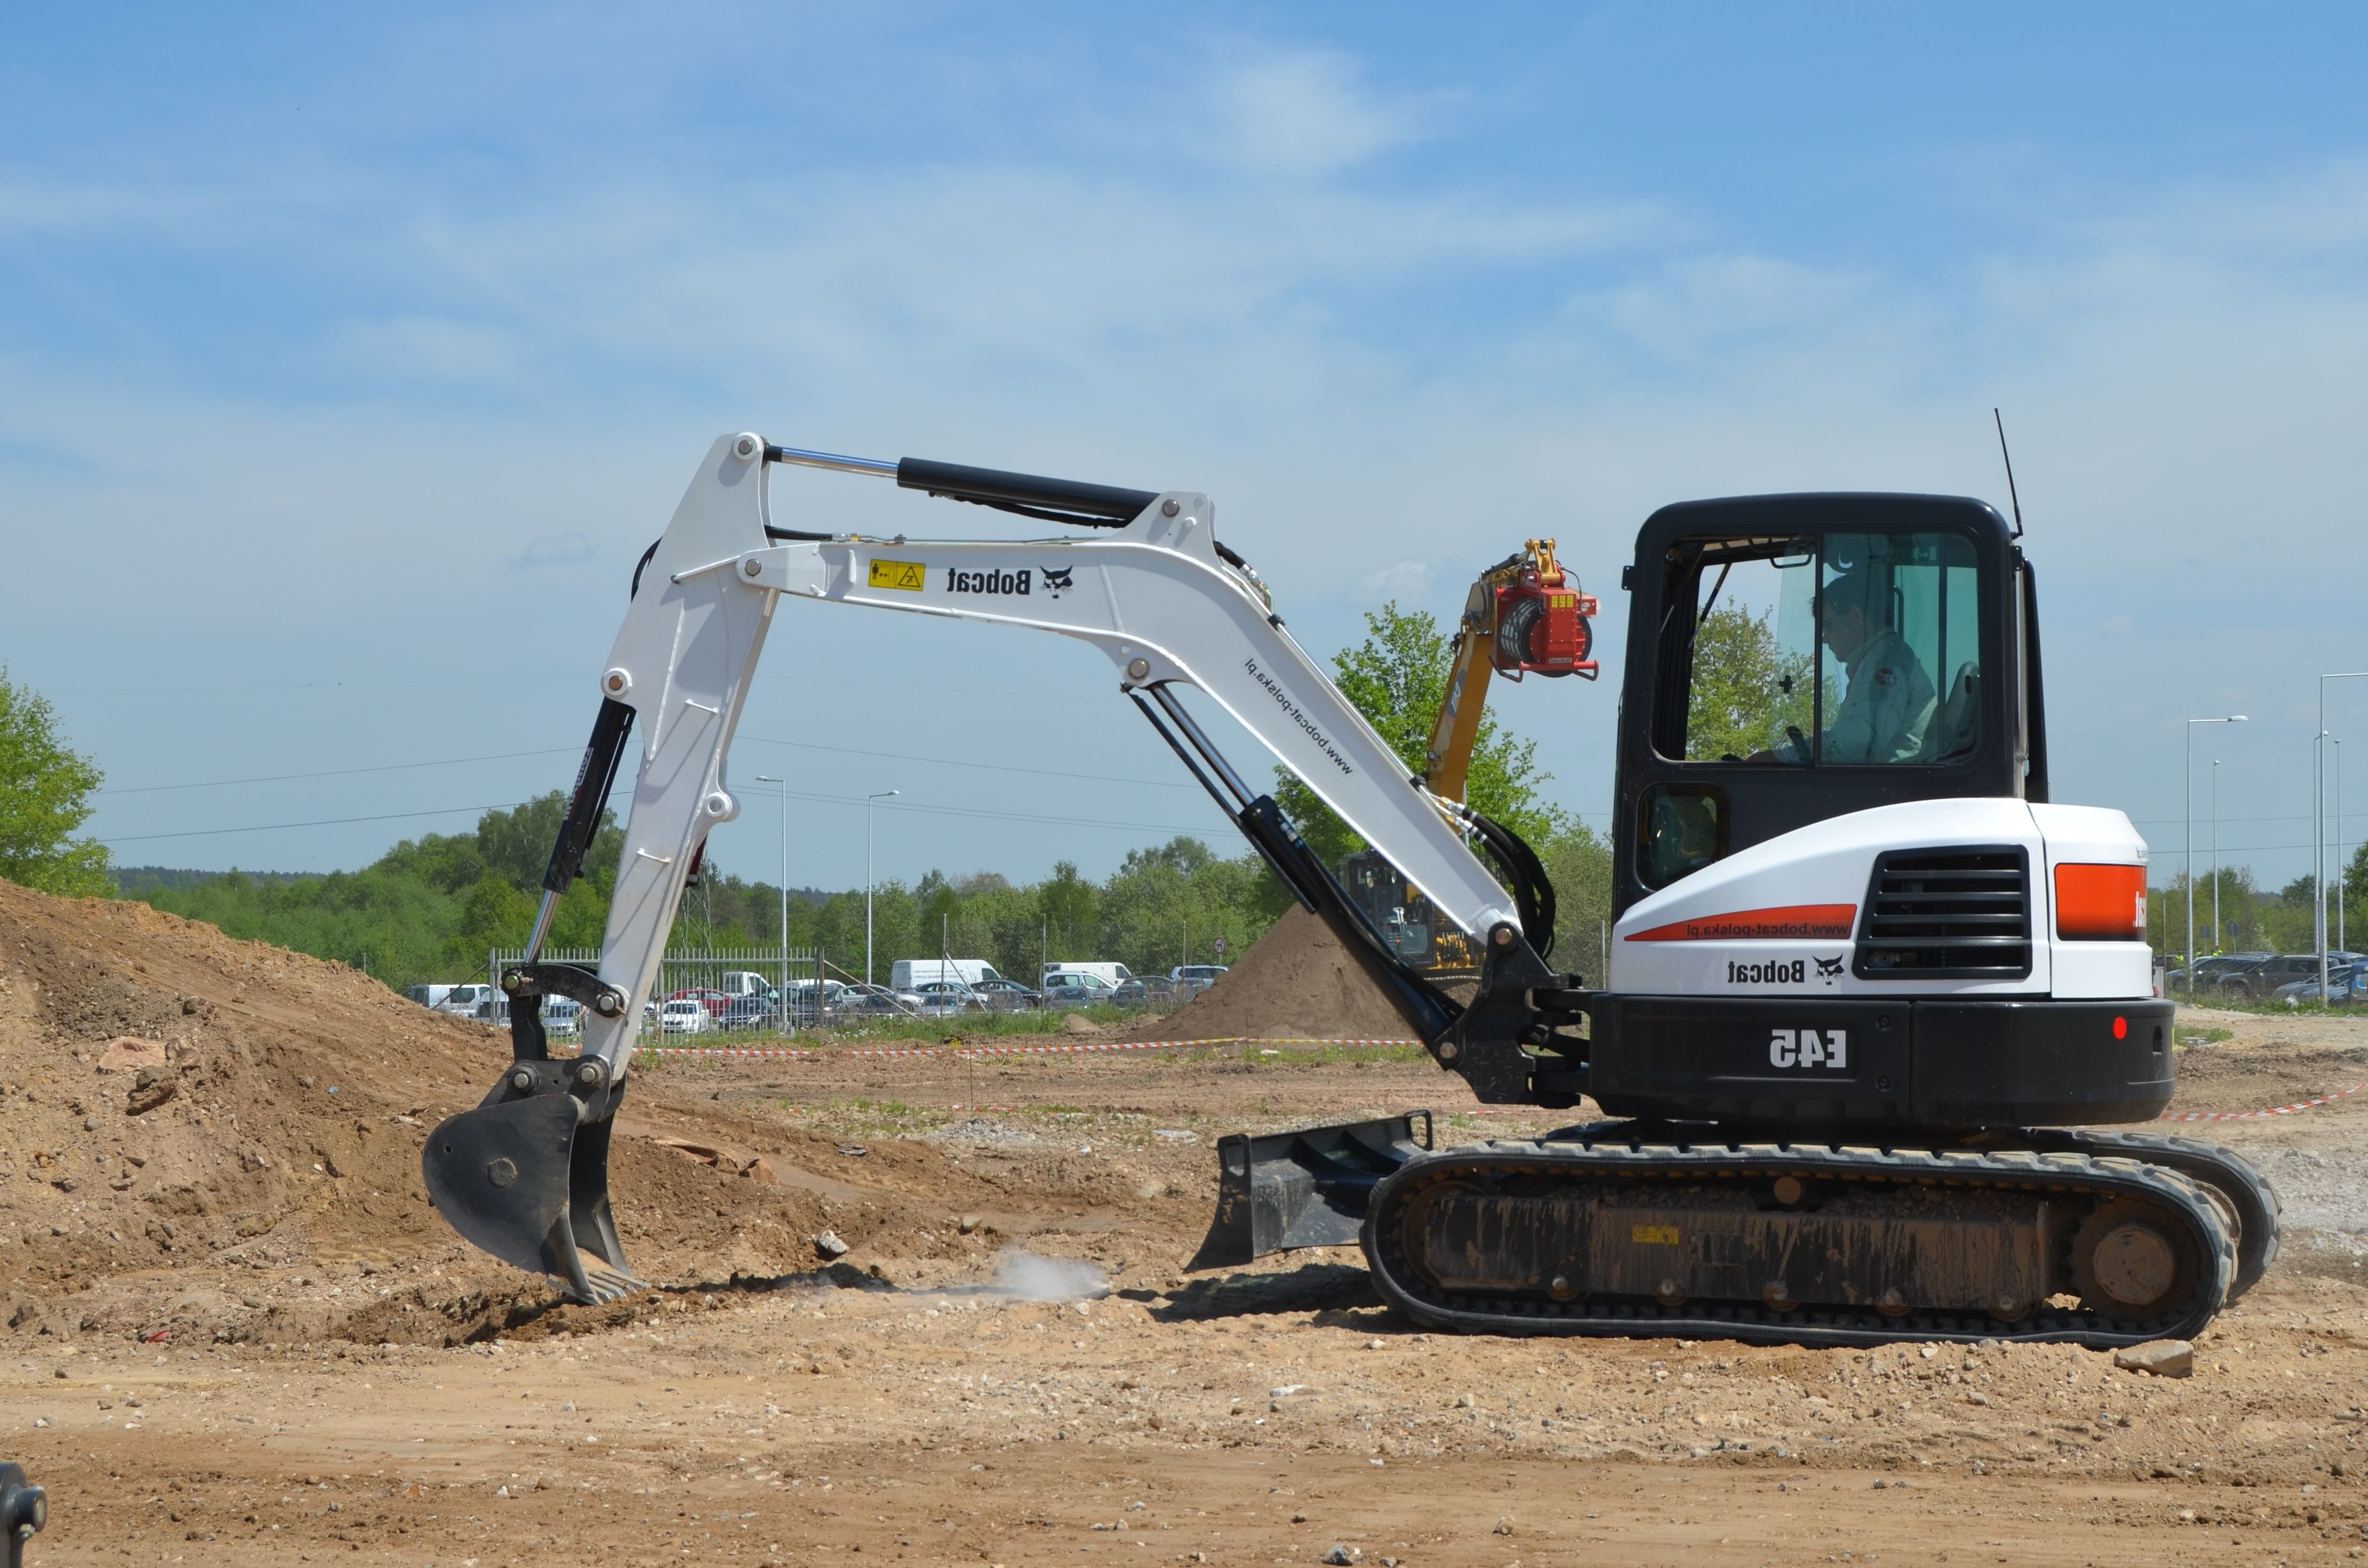excavator: (422, 427, 2275, 1346)
